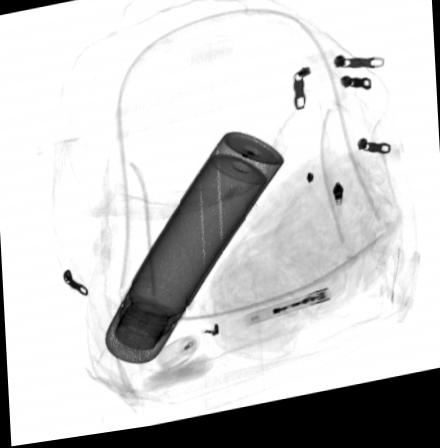Lighter: (242, 298, 331, 335)
